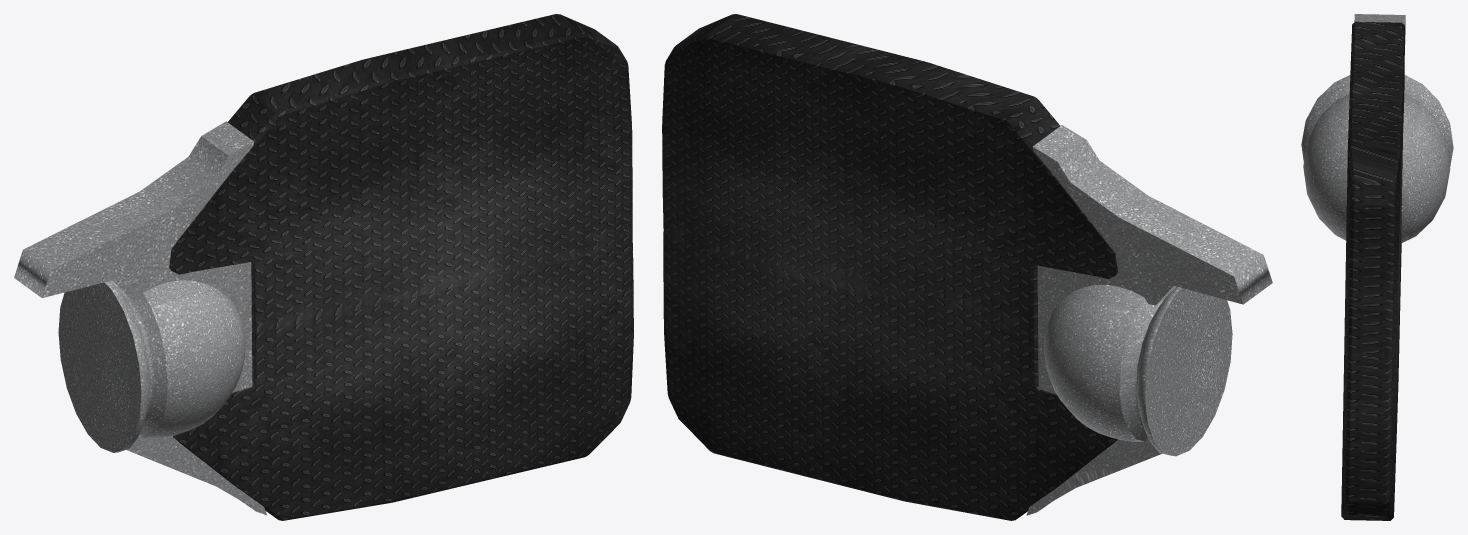
The model's file is Cuttof_LaptopKey.fbx.
3 renders of one model, left to right at view 1: azimuth 30°, elevation 25°; view 2: azimuth 150°, elevation 25°; view 3: azimuth 270°, elevation 25°, orthographic. The views are drawn at different scales.
Parts seen in each view (by area): view 1: polySurface1, polySurface2, polySurface3; view 2: polySurface1, polySurface2, polySurface3; view 3: polySurface1, polySurface2, polySurface3.
Part boxes in pixels (left/top/right/bottom): polySurface1: left=169, top=14, right=633, bottom=520; polySurface2: left=58, top=280, right=245, bottom=452; polySurface3: left=14, top=121, right=266, bottom=515; polySurface1: left=662, top=14, right=1117, bottom=520; polySurface2: left=1044, top=284, right=1232, bottom=456; polySurface3: left=1026, top=125, right=1272, bottom=515; polySurface1: left=1341, top=21, right=1404, bottom=520; polySurface2: left=1301, top=75, right=1453, bottom=242; polySurface3: left=1354, top=14, right=1405, bottom=44.
Size of the model in its own units: 2.42 by 1.66 by 0.6094.
